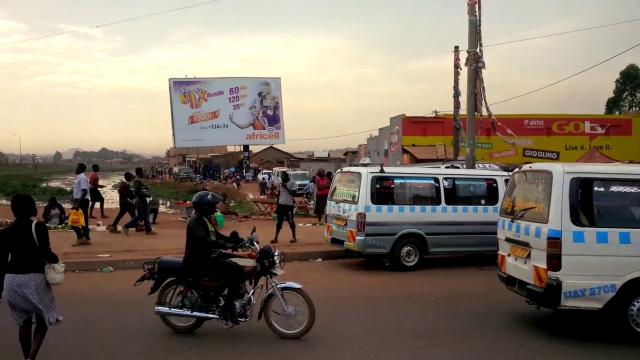car: (275, 168, 315, 197), (171, 167, 196, 183)
motorcycle: (164, 190, 315, 339)
van: (494, 162, 640, 343), (323, 155, 487, 268)
